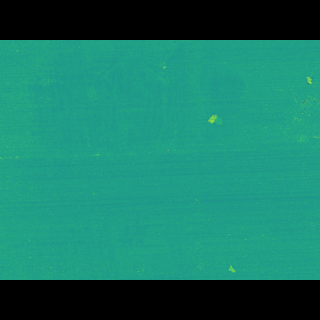Loch: (12, 67, 254, 158)
